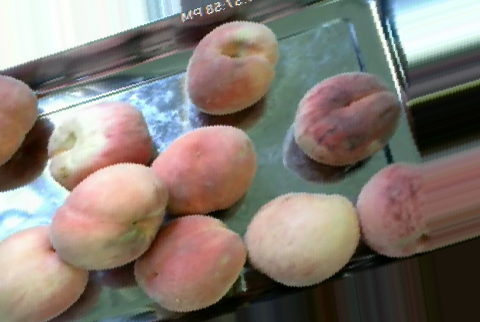Peach: (50, 163, 165, 274), (131, 213, 243, 315), (245, 191, 360, 287), (293, 71, 399, 166), (151, 123, 254, 216), (45, 102, 151, 188), (185, 20, 278, 114)
